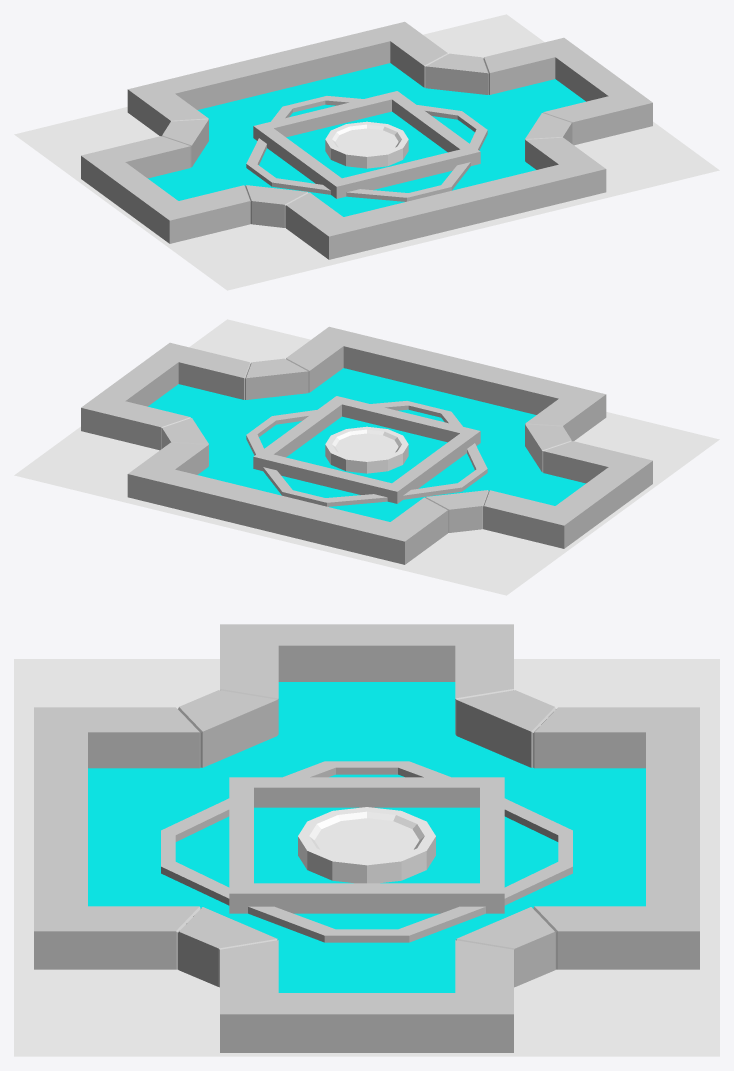
The model's file is SM_Bld_Fountain_01.glb.
The picture shows the model from 3 angles, top to bottom: view 1: azimuth 30°, elevation 25°; view 2: azimuth 150°, elevation 25°; view 3: azimuth 270°, elevation 25°; orthographic projection. The views are drawn at different scales.
Visible parts, largest first — view 1: SM_Bld_Fountain_Frame_01, SM_Bld_Fountain_Water_01, SM_Bld_Fountain_01, SM_Bld_Fountain_Well_01; view 2: SM_Bld_Fountain_Frame_01, SM_Bld_Fountain_Water_01, SM_Bld_Fountain_01, SM_Bld_Fountain_Well_01; view 3: SM_Bld_Fountain_Frame_01, SM_Bld_Fountain_Water_01, SM_Bld_Fountain_01, SM_Bld_Fountain_Well_01.
Boxes of the visible parts, x1=… form: SM_Bld_Fountain_Frame_01: x1=81, y1=21, x2=652, y2=259; SM_Bld_Fountain_Water_01: x1=148, y1=63, x2=585, y2=216; SM_Bld_Fountain_01: x1=14, y1=14, x2=719, y2=290; SM_Bld_Fountain_Well_01: x1=325, y1=121, x2=408, y2=168; SM_Bld_Fountain_Frame_01: x1=81, y1=326, x2=652, y2=564; SM_Bld_Fountain_Water_01: x1=148, y1=368, x2=585, y2=521; SM_Bld_Fountain_01: x1=14, y1=319, x2=719, y2=595; SM_Bld_Fountain_Well_01: x1=325, y1=426, x2=408, y2=473; SM_Bld_Fountain_Frame_01: x1=34, y1=624, x2=699, y2=1052; SM_Bld_Fountain_Water_01: x1=88, y1=682, x2=645, y2=992; SM_Bld_Fountain_01: x1=14, y1=659, x2=719, y2=1056; SM_Bld_Fountain_Well_01: x1=298, y1=807, x2=435, y2=883.
Size of the model in its own units: 10 by 0.6319 by 7.5.
